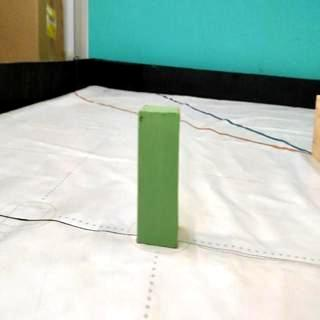greenbox: (137, 106, 180, 250)
